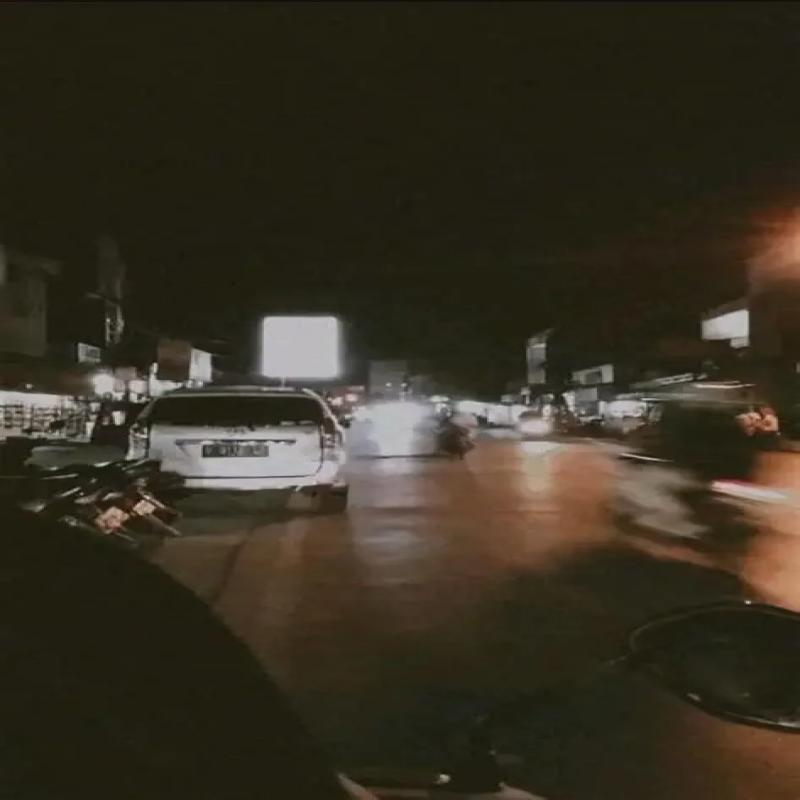license plate on a car: (203, 442, 268, 457)
